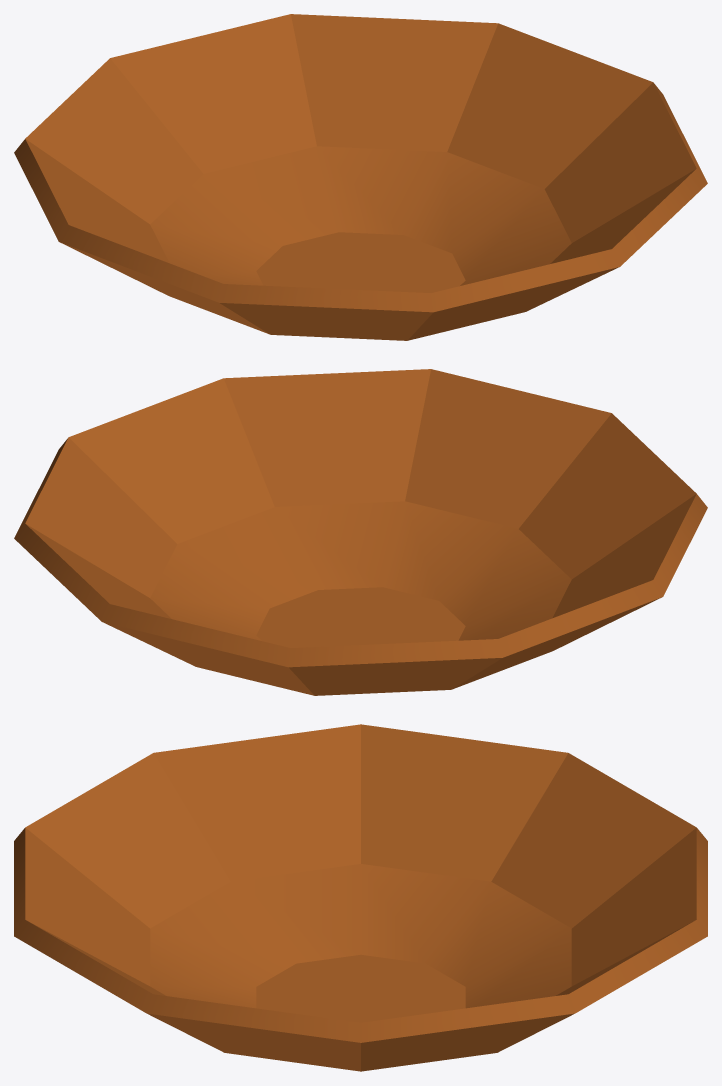
File: SM_bowl_01.FBX
The picture shows the model from 3 angles, top to bottom: view 1: azimuth 30°, elevation 25°; view 2: azimuth 150°, elevation 25°; view 3: azimuth 270°, elevation 25°; orthographic projection. The views are drawn at different scales.
Parts seen in each view (by area): view 1: Cylinder022; view 2: Cylinder022; view 3: Cylinder022.
Boxes of the visible parts, x1,y1,x2,y2 form: Cylinder022: (14,14,707,340); Cylinder022: (14,369,707,695); Cylinder022: (14,724,707,1071).
Size of the model in its own units: 109 by 24.09 by 104.
